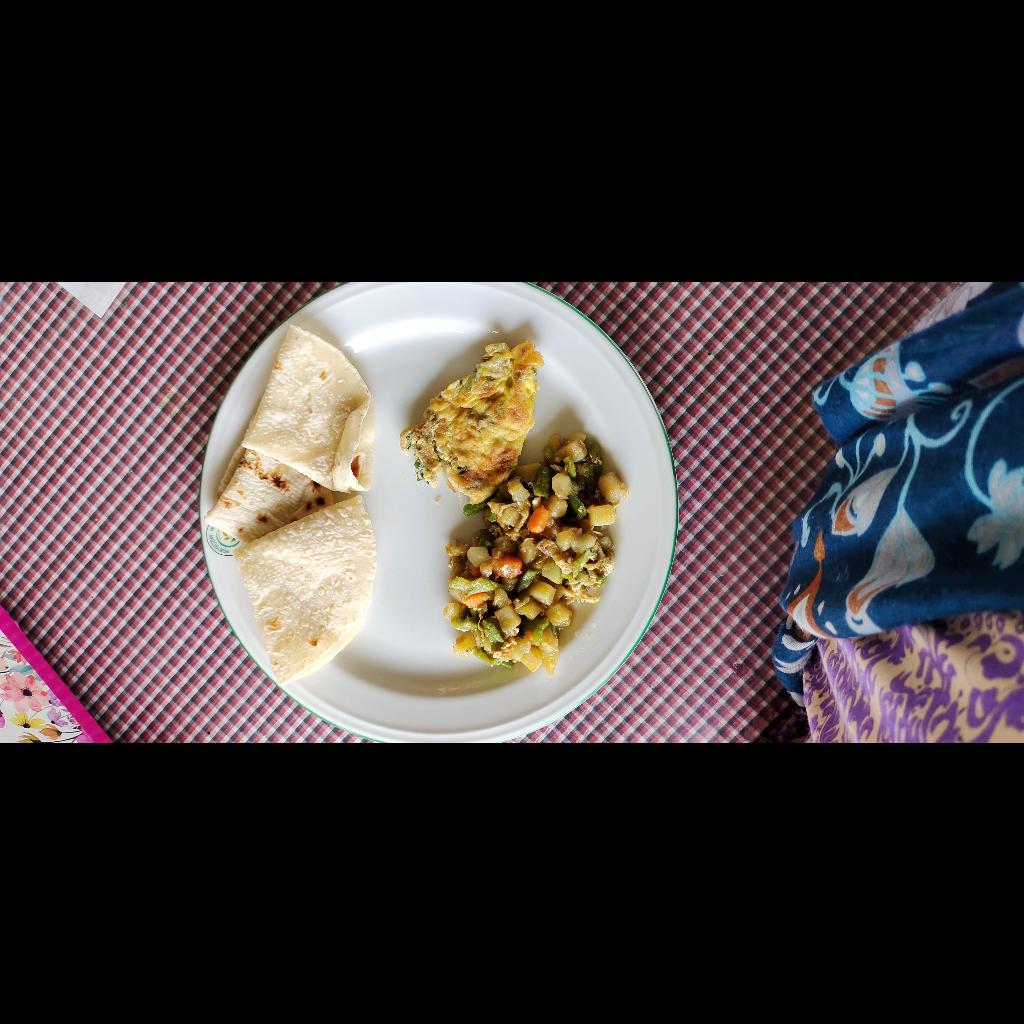fish: (237, 679, 402, 822)
ruti: (57, 481, 424, 660)
vegetable: (72, 725, 309, 906)
